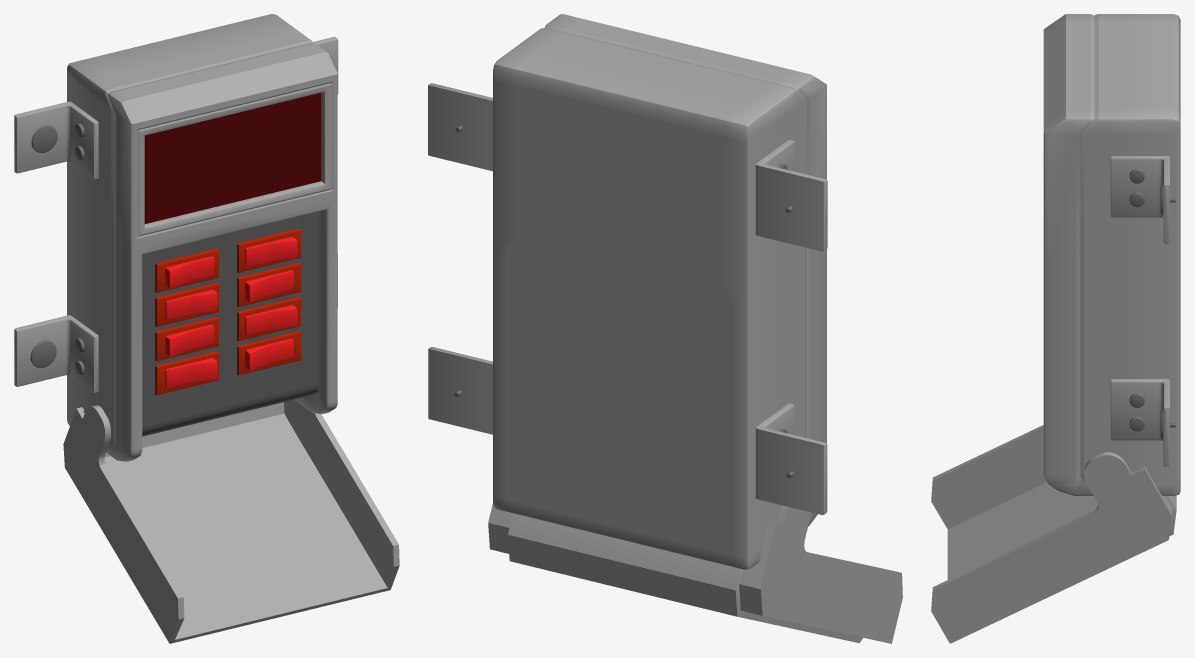
Rendered from _reaker_box.fbx.
The picture shows the model from 3 angles, left to right: view 1: azimuth 30°, elevation 25°; view 2: azimuth 150°, elevation 25°; view 3: azimuth 270°, elevation 25°; orthographic projection. The views are drawn at different scales.
Visible parts, largest first — view 1: BreakerHighPoly; view 2: BreakerHighPoly; view 3: BreakerHighPoly.
Part boxes in pixels (x1,y1,x2,y2): BreakerHighPoly: (14, 14, 399, 643); BreakerHighPoly: (428, 14, 902, 643); BreakerHighPoly: (931, 14, 1180, 643).
Bounding box in the file's own units: 165 × 244 × 106.
